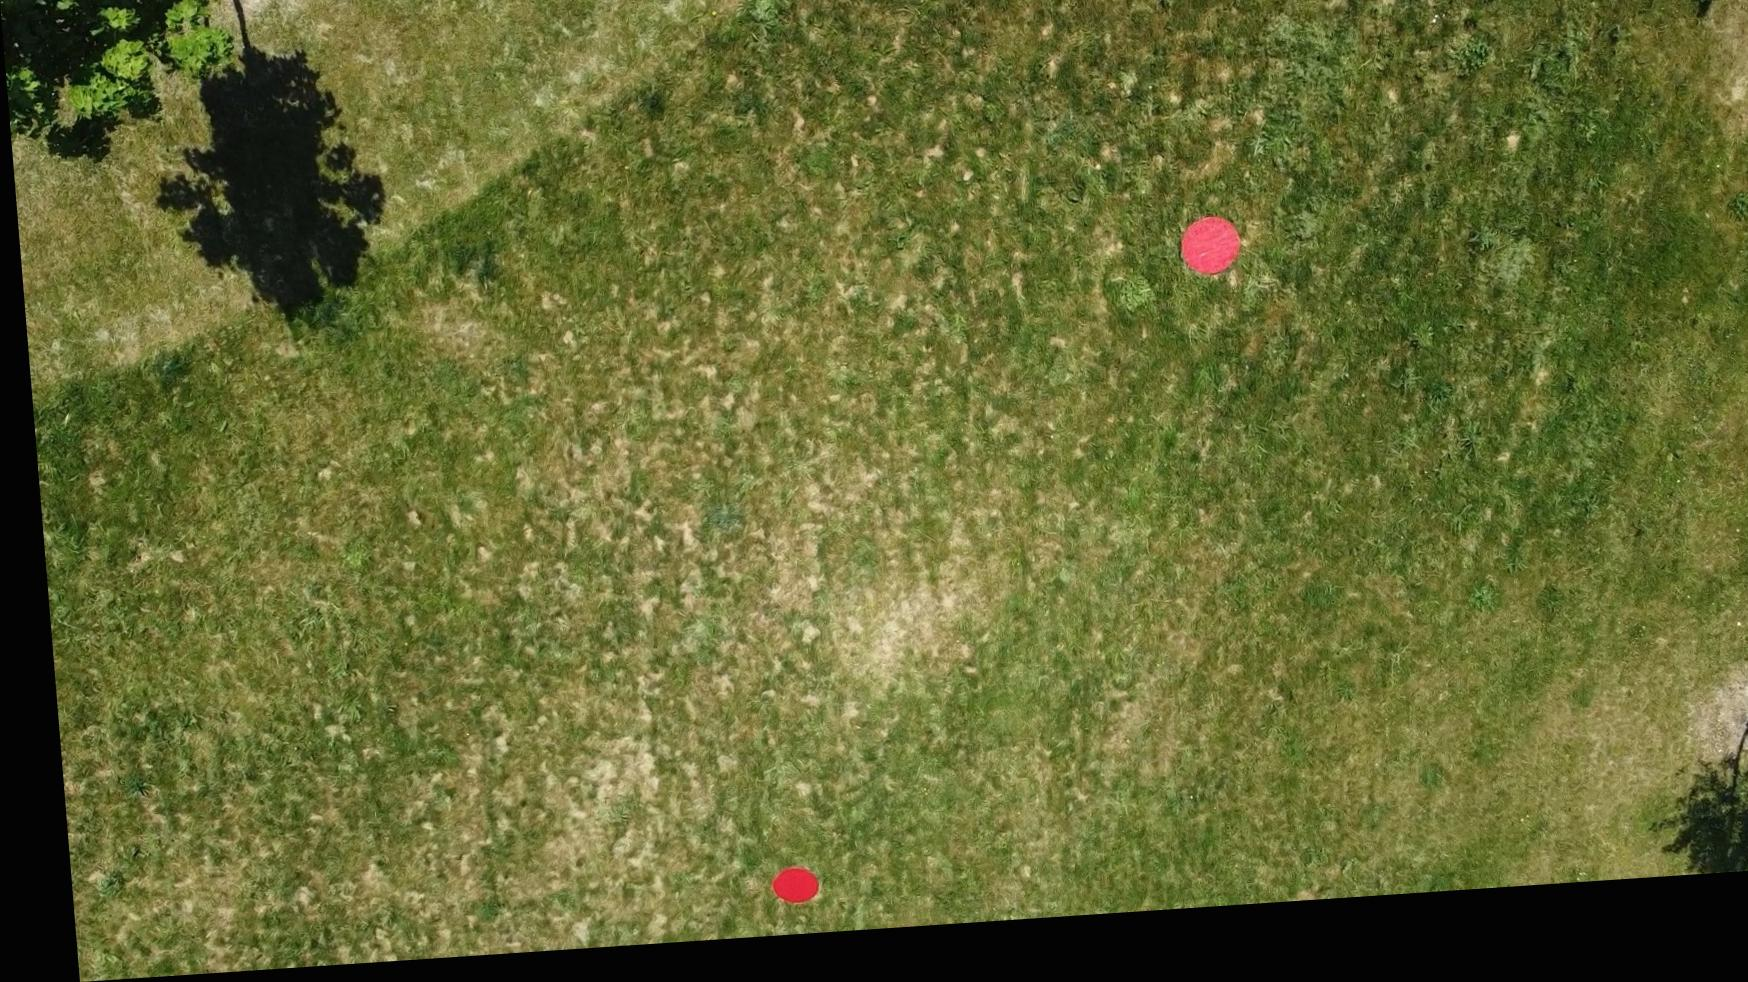Red: (1169, 229, 1239, 295), (752, 874, 806, 917)
